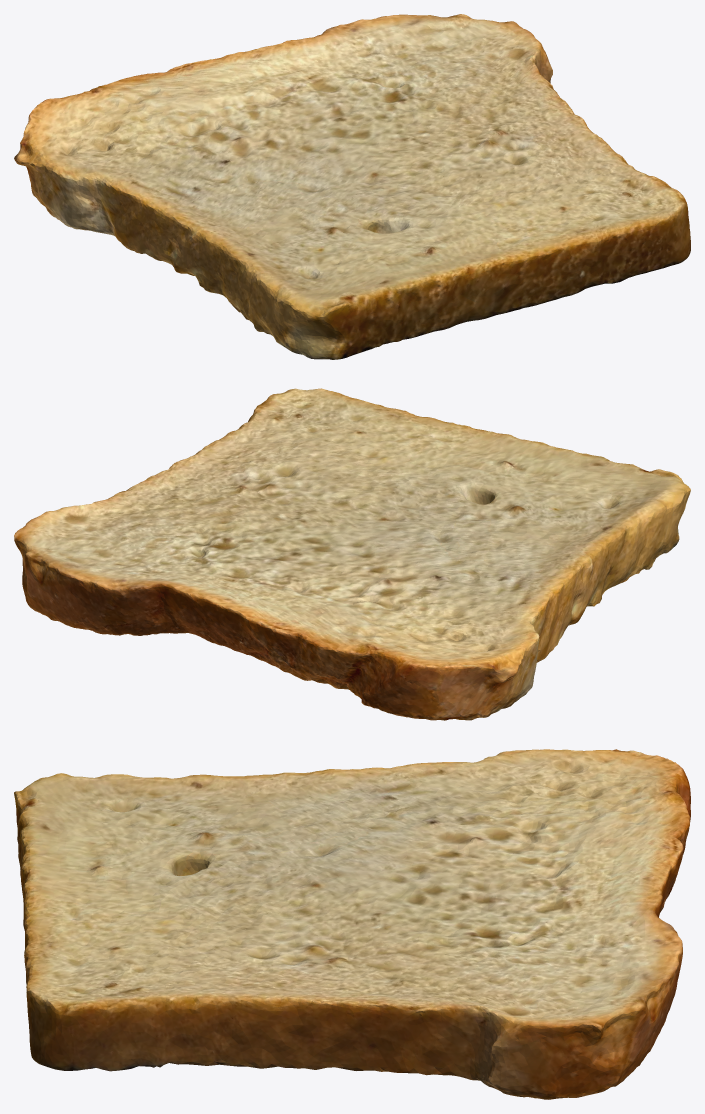
File: Rye_C.glb
The picture shows the model from 3 angles, top to bottom: view 1: azimuth 30°, elevation 25°; view 2: azimuth 150°, elevation 25°; view 3: azimuth 270°, elevation 25°; orthographic projection. The views are drawn at different scales.
Bounding box in the file's own units: 0.1192 × 0.0176 × 0.1148.
1 material, 1 textured.
